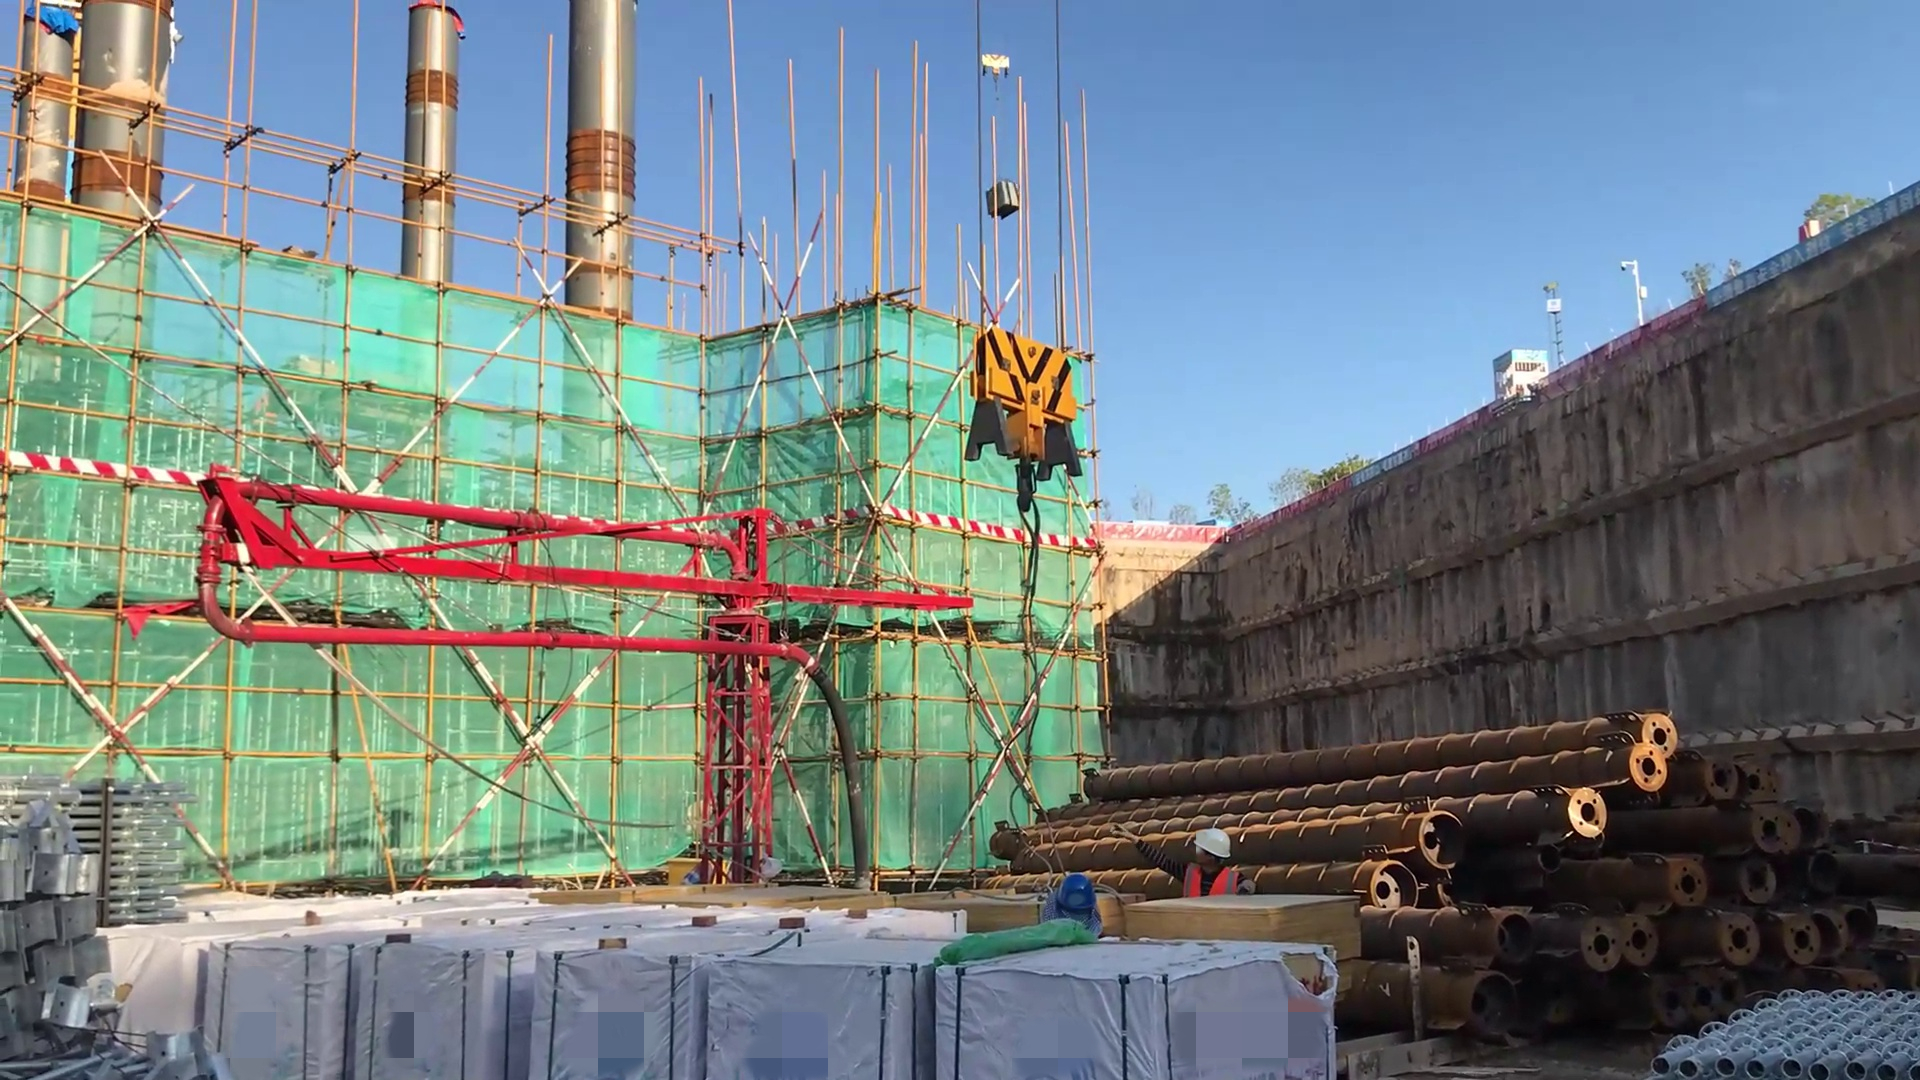board: (1122, 888, 1372, 966)
ebox: (666, 856, 731, 884)
helmet: (1050, 872, 1105, 937), (1187, 824, 1234, 872)
hook: (958, 327, 1091, 502), (952, 44, 1043, 84)
person: (1163, 811, 1243, 931)
scaffold: (52, 769, 209, 914)
slogan: (1702, 179, 1920, 323), (1354, 445, 1430, 498)
vest: (1184, 866, 1238, 912)
wood: (904, 893, 1045, 935)
